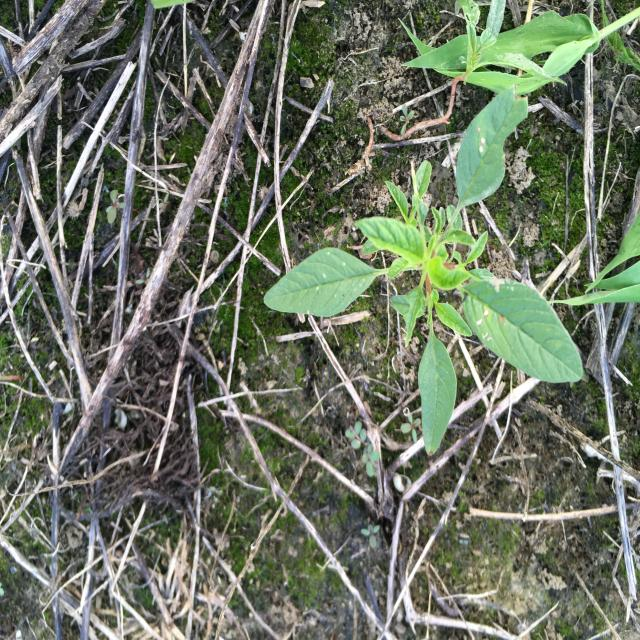Waterhemp: (262, 82, 586, 461)
